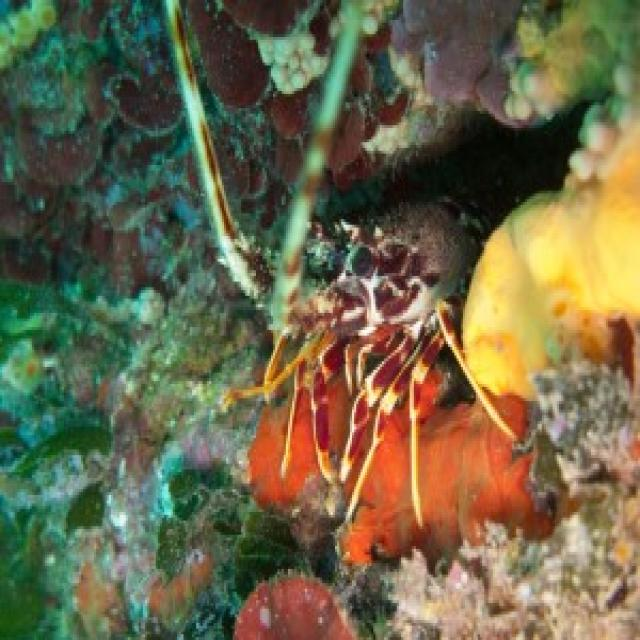lobsters: (255, 163, 515, 545)
